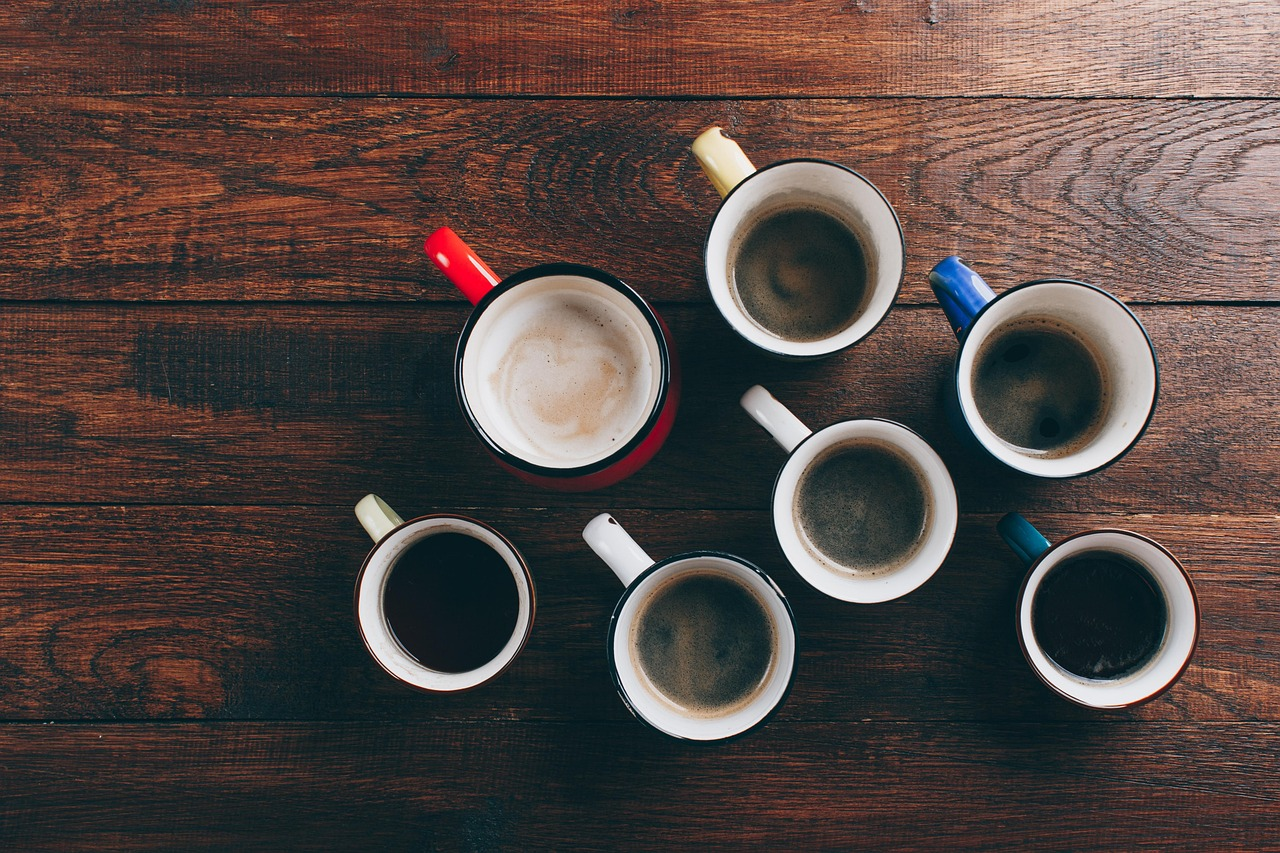mug: (398, 210, 713, 500), (553, 495, 838, 778), (642, 111, 922, 363), (962, 487, 1223, 753), (903, 228, 1176, 478), (739, 360, 979, 625), (333, 463, 552, 719)
